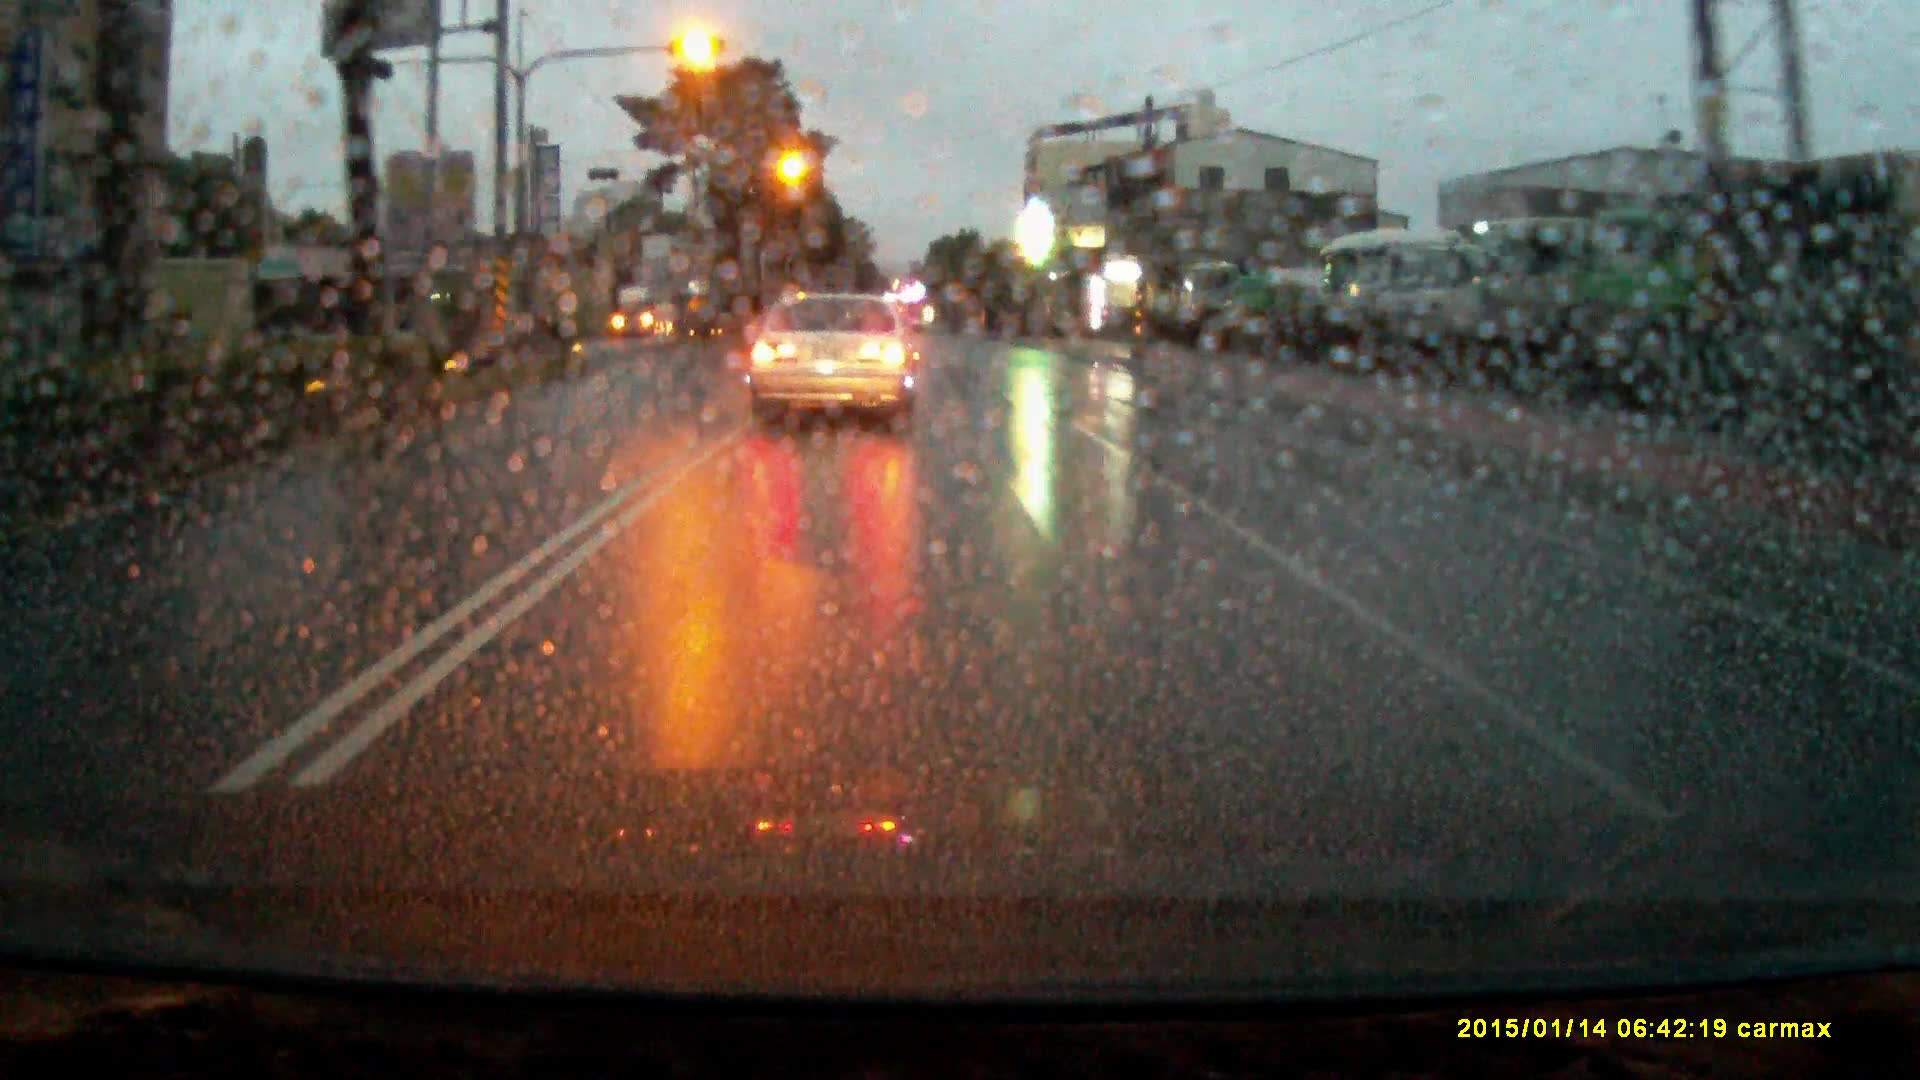vehicle: (1596, 204, 1724, 407), (746, 294, 923, 431), (1480, 216, 1598, 392), (1382, 228, 1485, 365), (1323, 237, 1412, 345), (1218, 270, 1346, 332), (1183, 262, 1245, 331), (616, 287, 674, 338)
